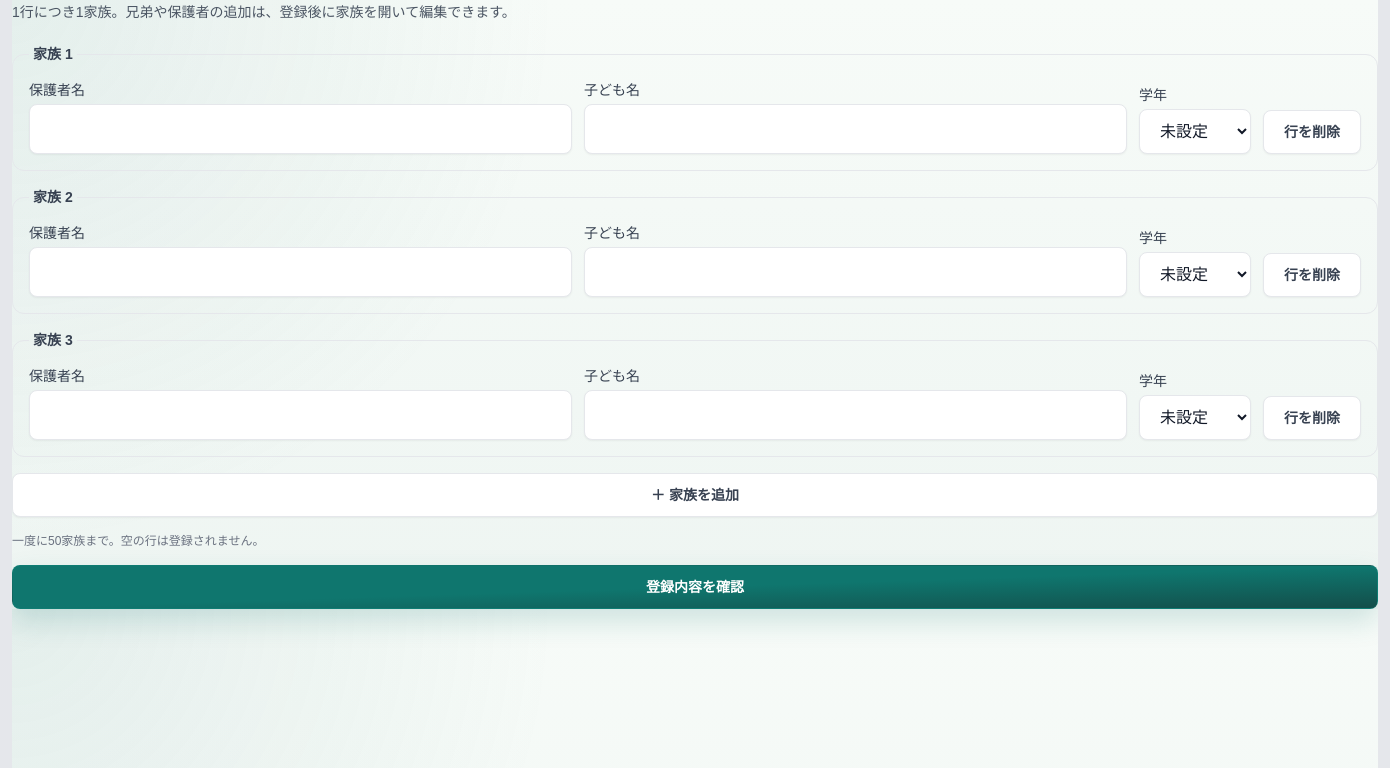
Test: 部分入力（ /  / 2）を空行として捨てずエラーにする
Select "2年" in the 1st dropdown labelled "学年" at x=1195, y=132, box x1=1139 y1=109 x2=1251 y2=154
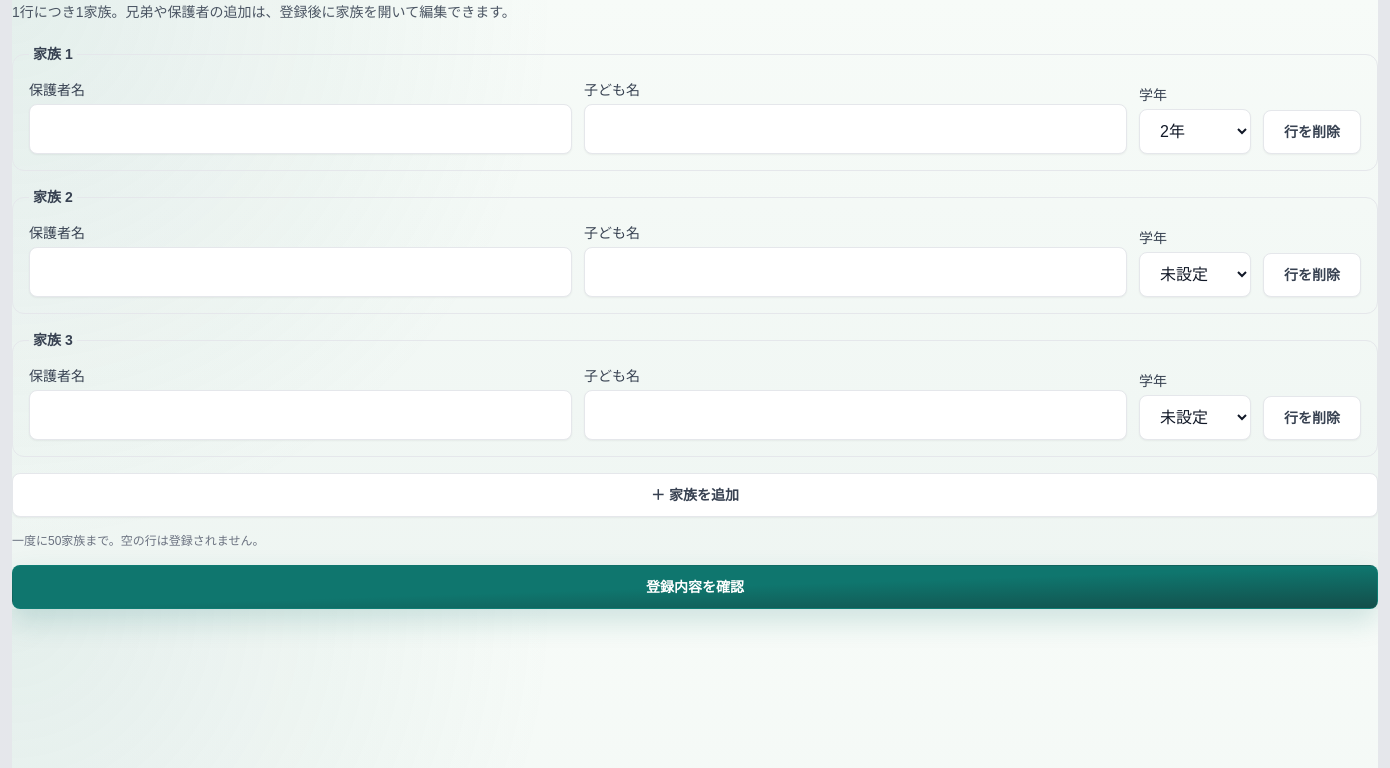
Click the button "登録内容を確認" at x=695, y=587, box x1=12 y1=565 x2=1378 y2=609
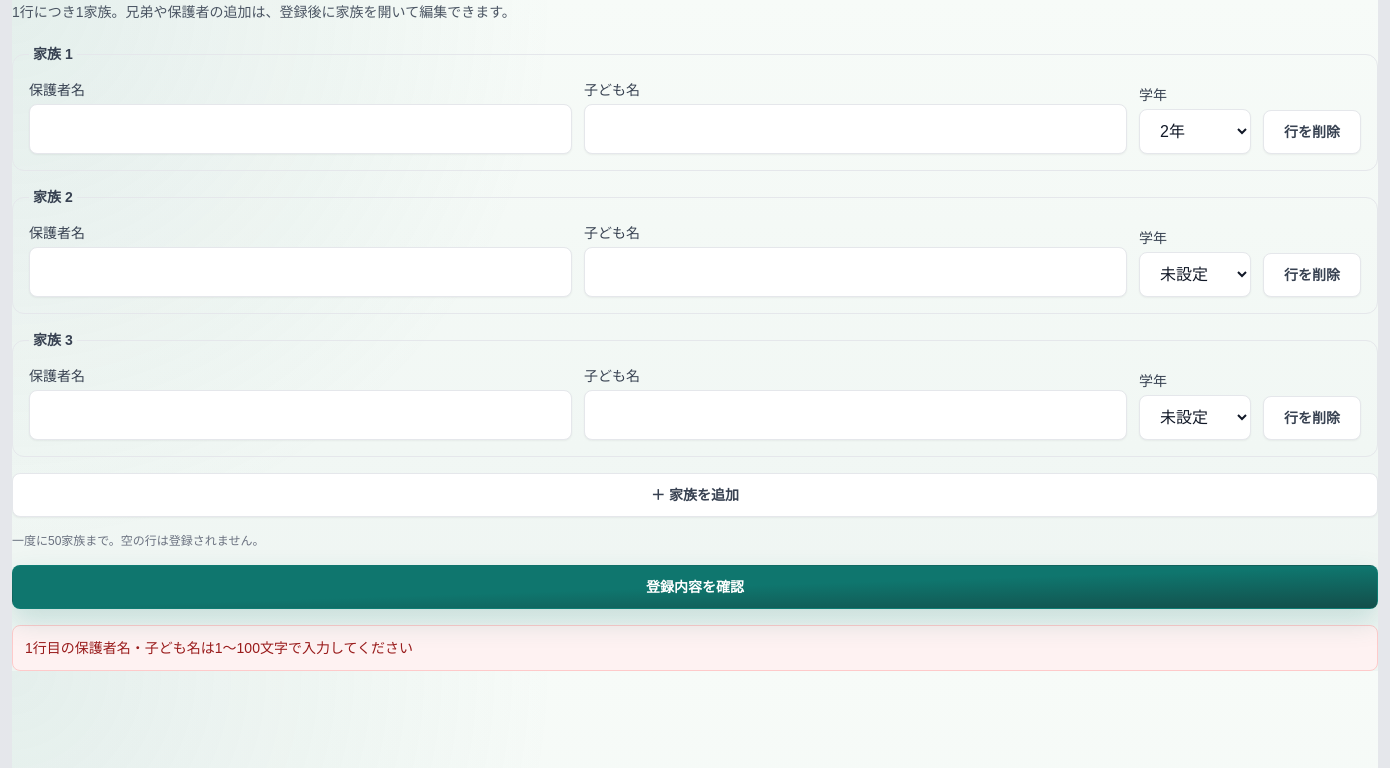
Expected: the message shows "保護者名・子ども名", x1=25 y1=640 x2=413 y2=656
